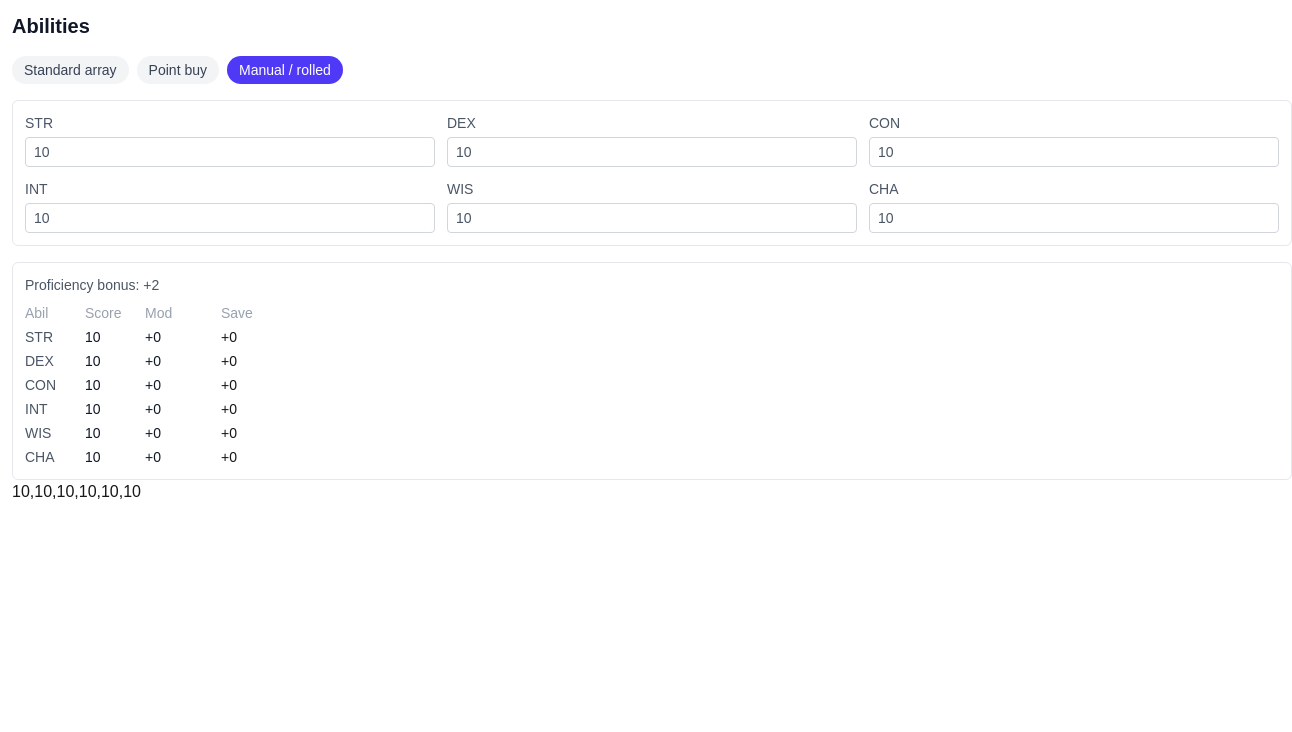
Scenario: AbilitiesStep — ability score generation › point-buy: decrementing refunds points and re-disables at the floor
Click the radio button labelled "Point buy" at (178, 70), box [137,56,219,84]
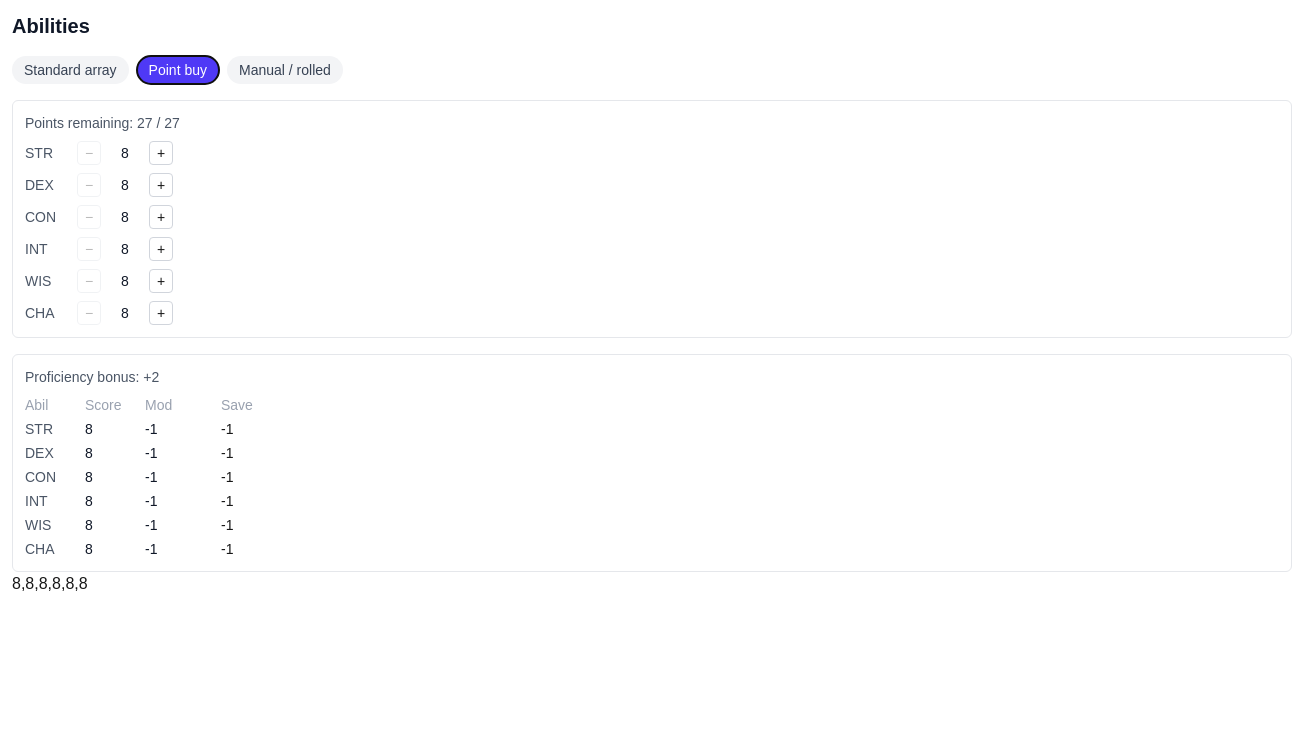
Click the button named "increase strength" at (161, 153), box [149,141,173,165]
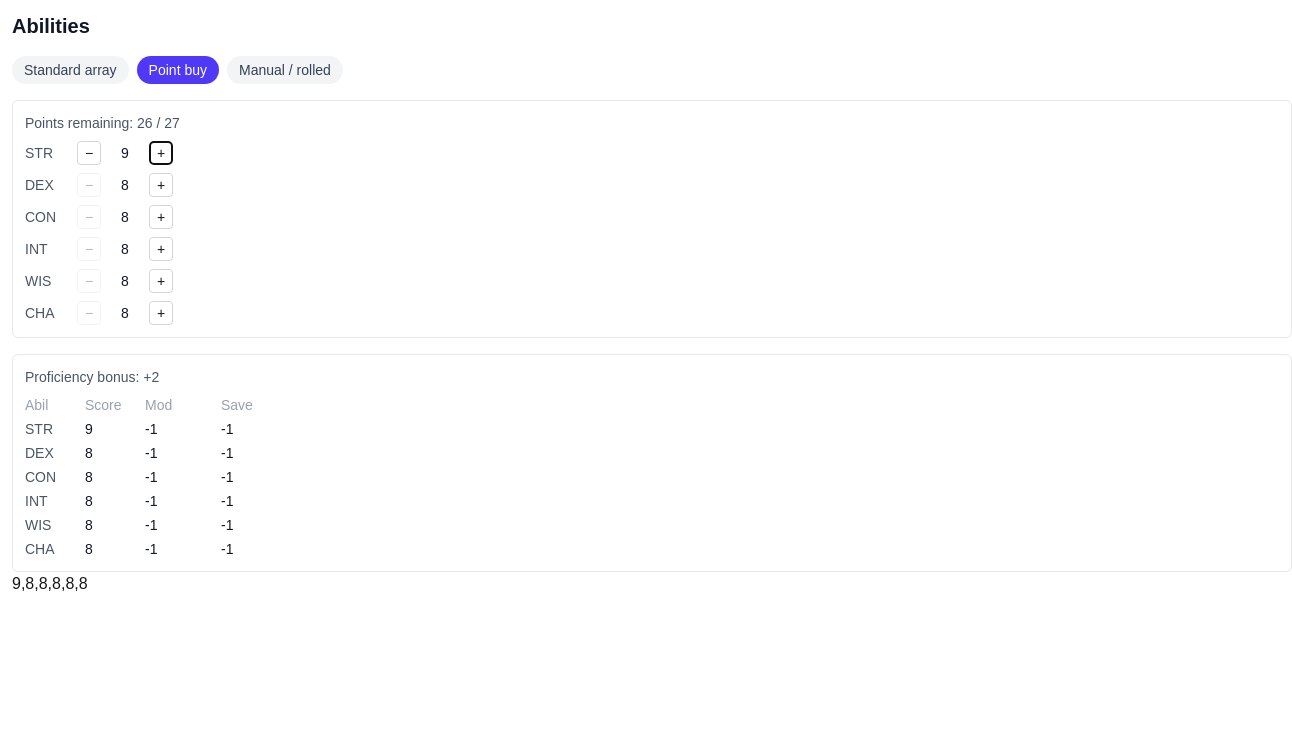
Click the button named "increase strength" at (161, 153), box [149,141,173,165]
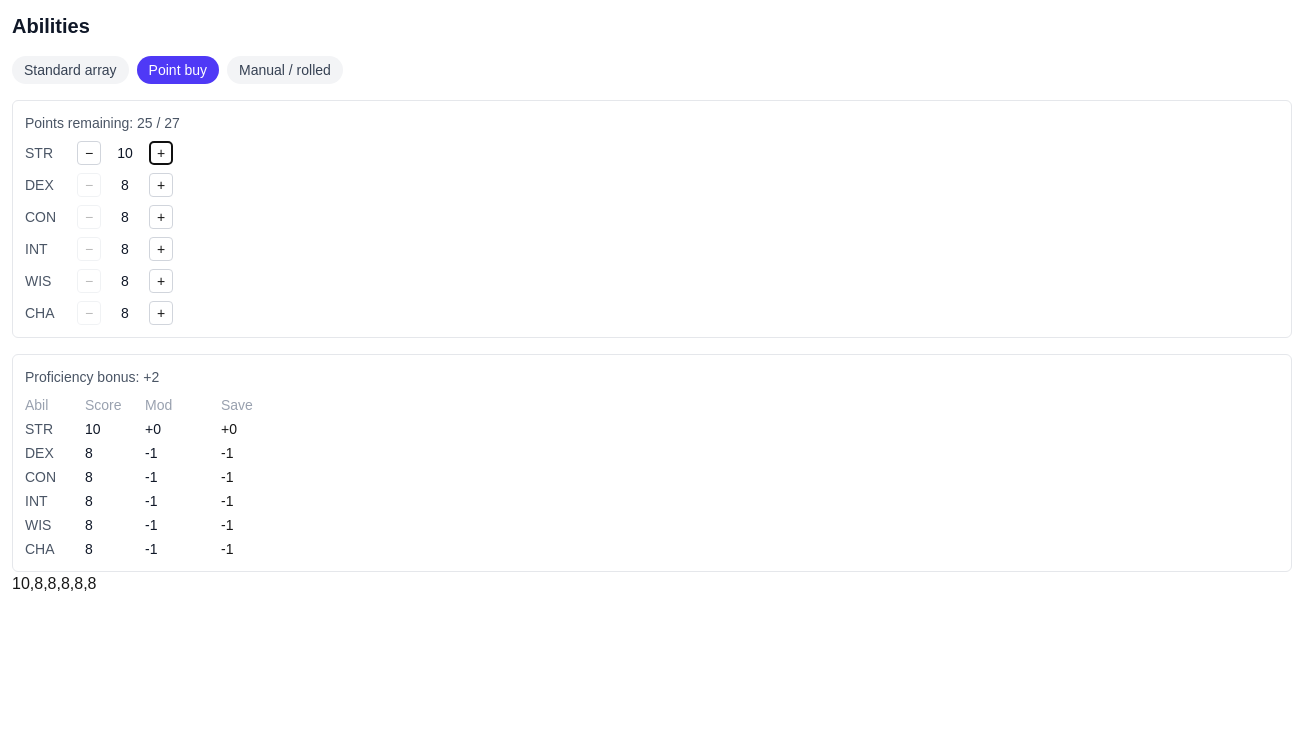
Now the text with test id "score-strength" reads "10", box [117,145,133,161]
Now the text with test id "points-remaining" reads "25", box [137,115,153,131]
Click the button named "decrease strength" at (89, 153), box [77,141,101,165]
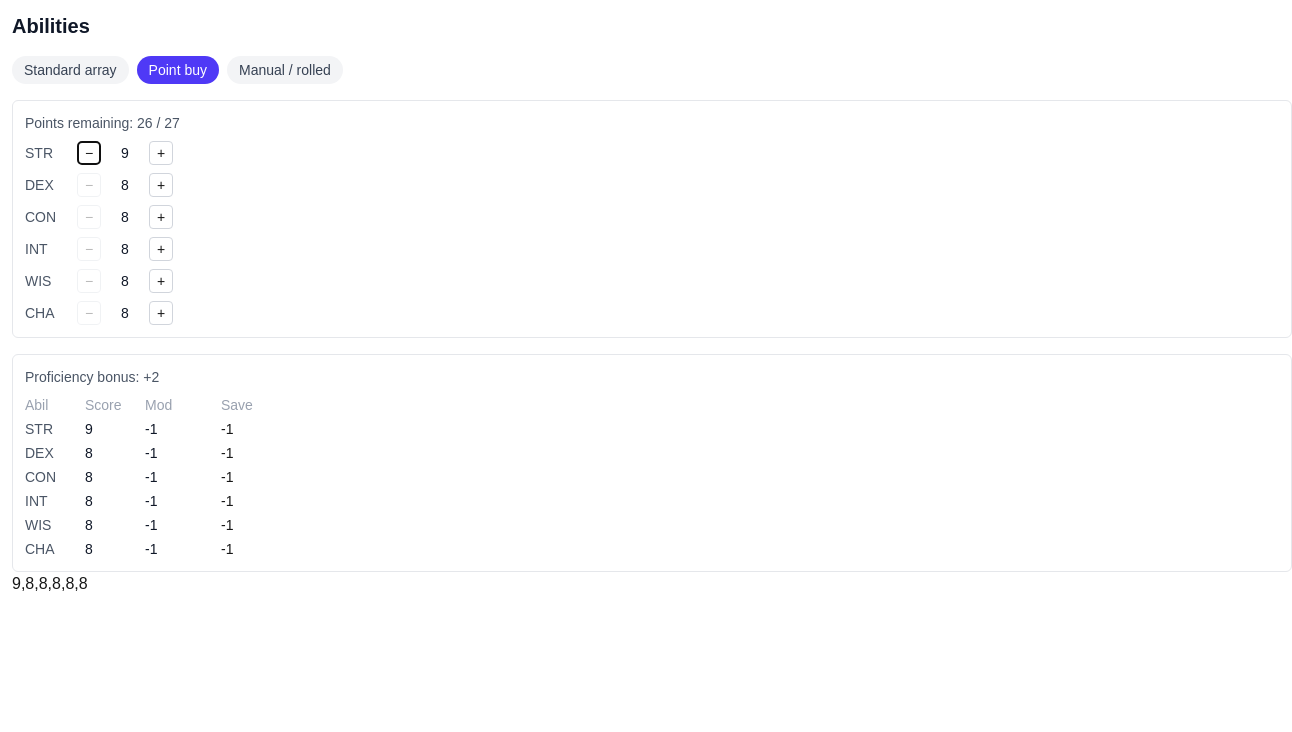
Click the button named "decrease strength" at (89, 153), box [77,141,101,165]
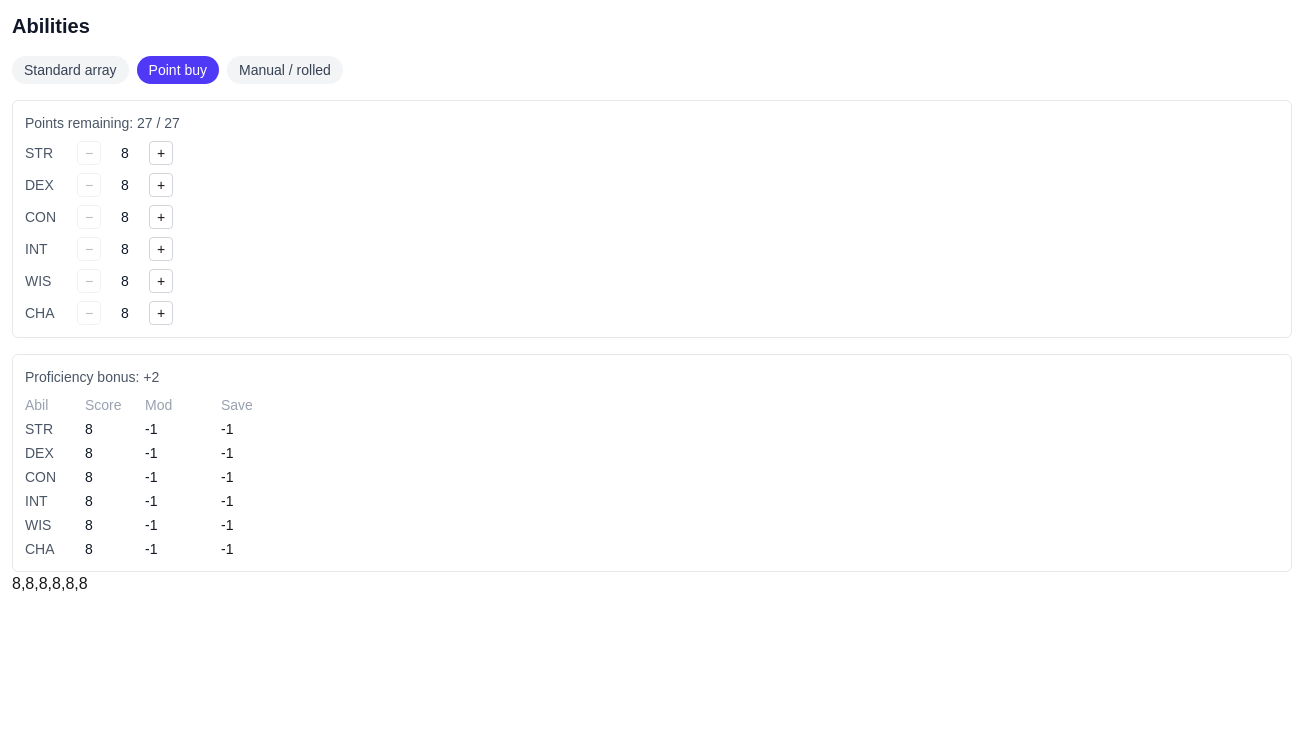
Now the text with test id "score-strength" reads "8", box [121,145,129,161]
Now the text with test id "points-remaining" reads "27", box [137,115,153,131]
Now the button named "decrease strength" is disabled, box [77,141,101,165]
